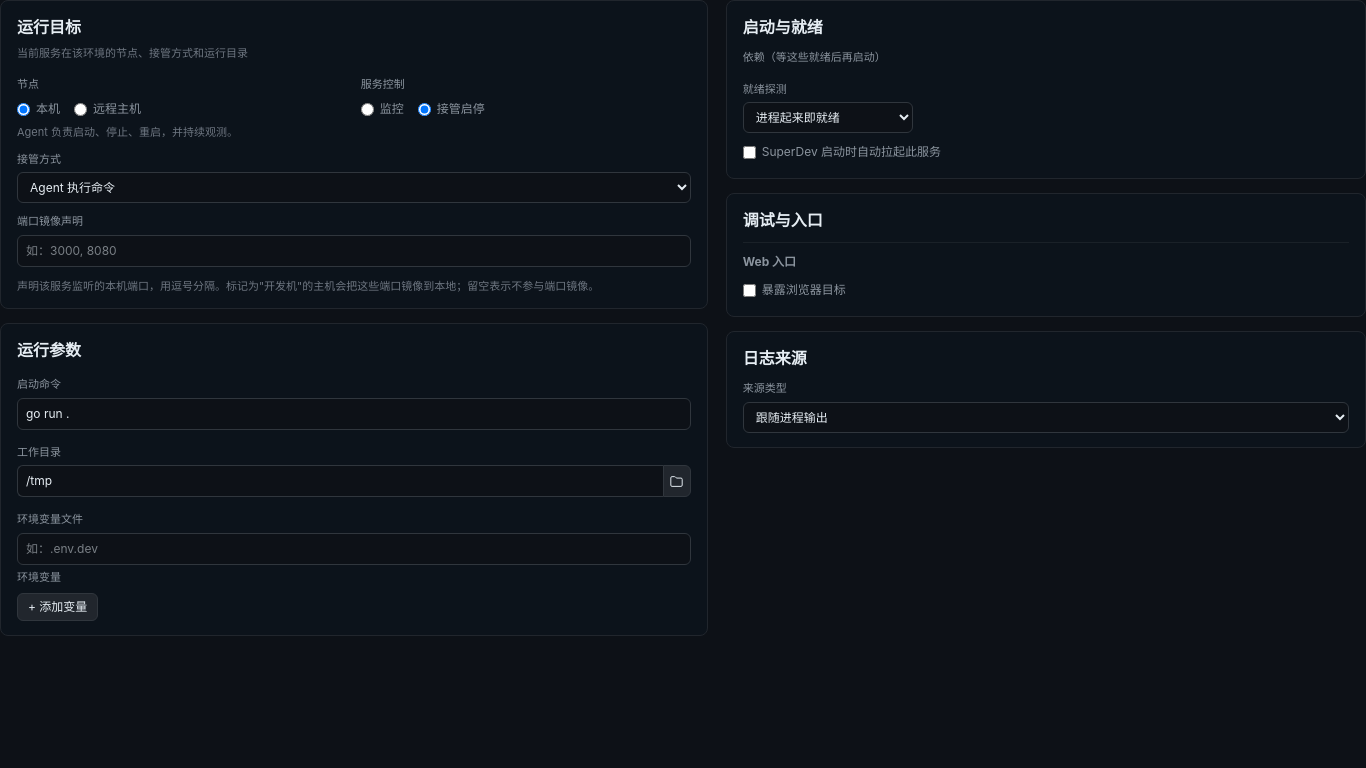
Test: DeploymentForm › ports (端口镜像声明) › 端口 0 视为非法
The image size is (1366, 768).
Type "0" into the field with test id "dep-ports" at (354, 250), box [17,234,691,266]
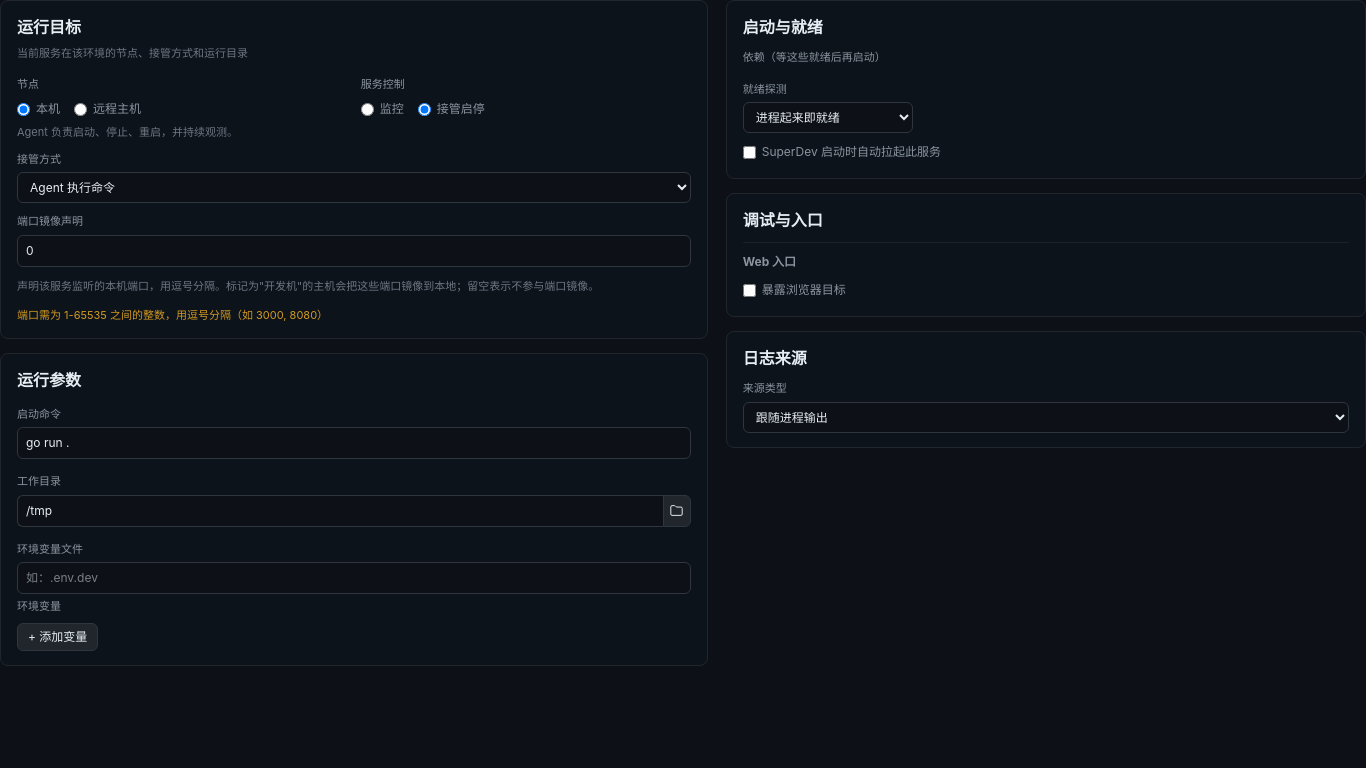
Expected: the text "端口需为 1-65535 之间的整数，用逗号分隔（如 3000, 8080）" is shown, [17,308,328,322]
